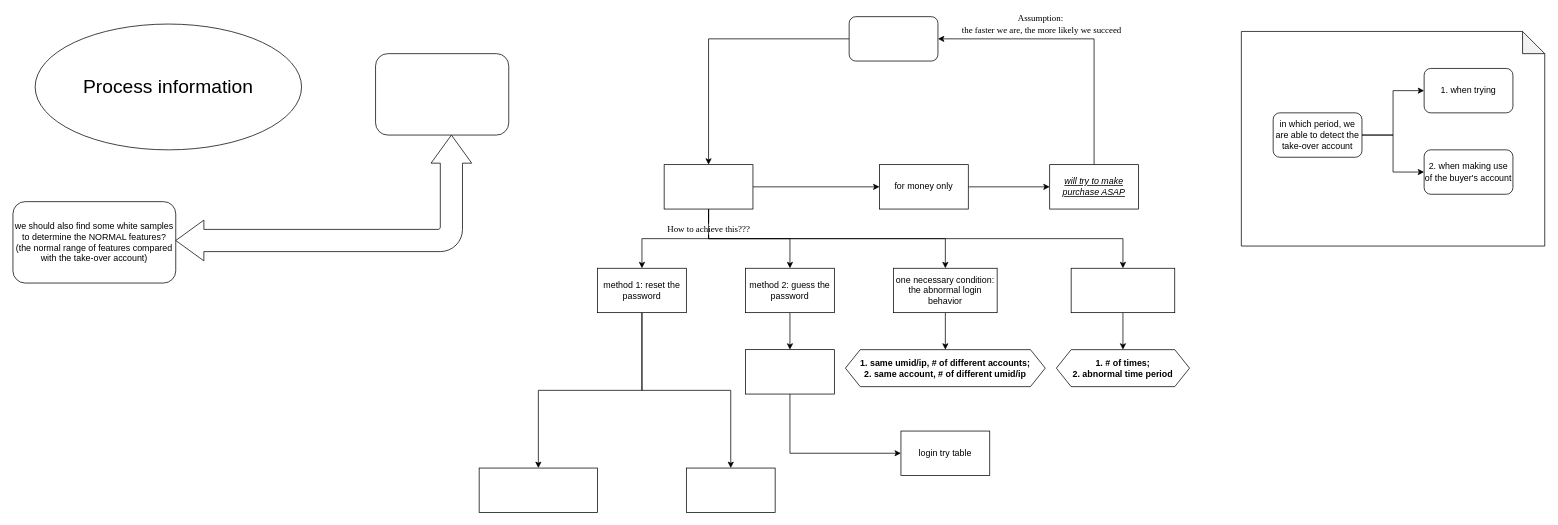
The diagram is 1558 pixels wide and 525 high, and some of its shapes have lost their labels. The shapes that lost their labels are listed below. From the top down, each one's centre as x and y in pixels, then its label:
pixel 893 38: 1. current enter time 2. purchase time
pixel 442 94: use the black samples to check those features?
pixel 708 186: the benefit of taking over others' account
pixel 1122 290: one necessary condition: the abnormal modification on security information
pixel 789 371: number of times try the password?
pixel 538 489: 1. last reset passcode time 2. current enter time
pixel 730 489: number of times try the SMS code?
